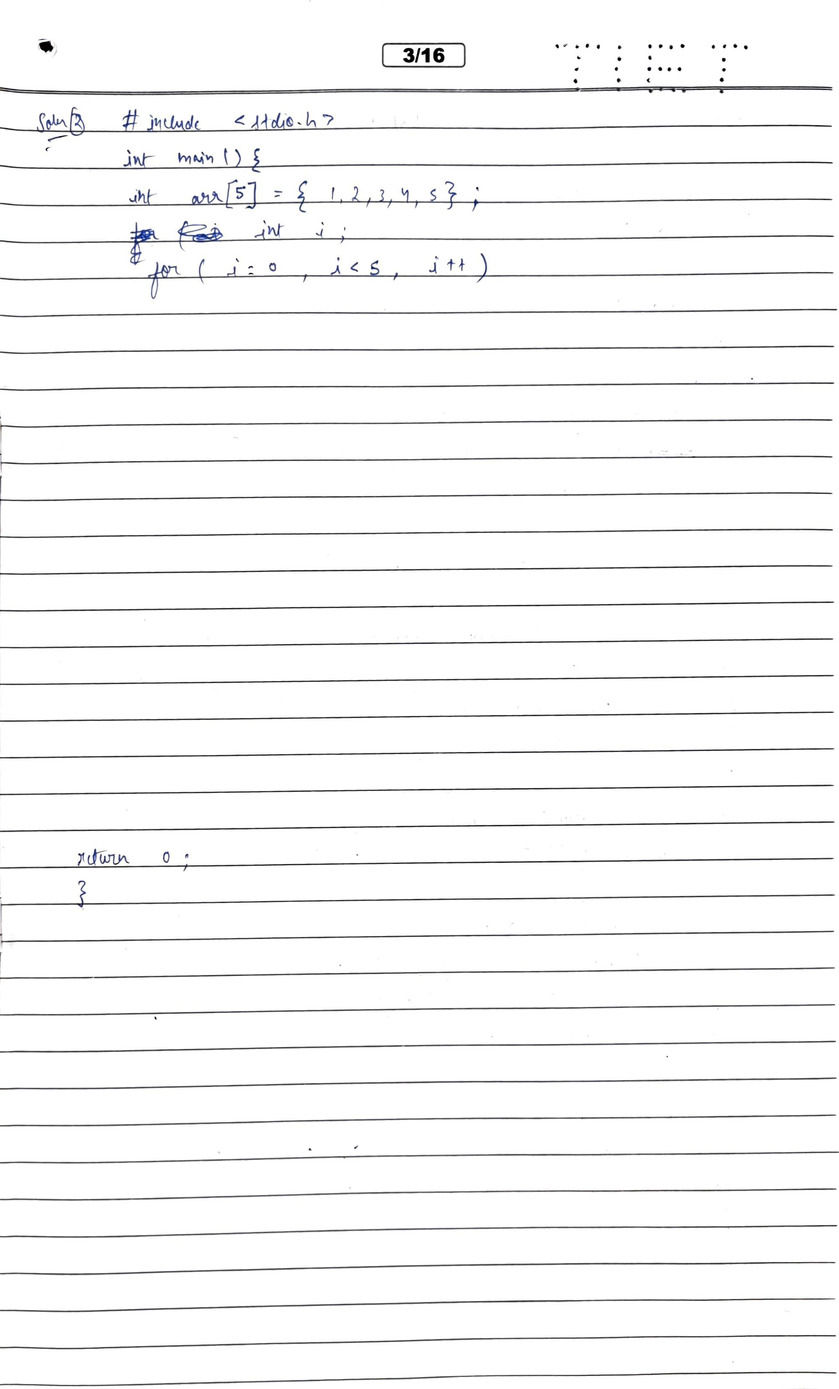cuttings: (176, 220, 224, 252), (129, 221, 160, 266)
